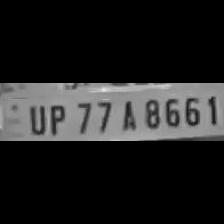1: (202, 92, 220, 126)
6: (181, 92, 201, 126), (162, 94, 180, 128)
7: (70, 98, 94, 134), (92, 98, 114, 134)
8: (140, 94, 160, 130)
A: (114, 96, 138, 132)
P: (45, 101, 69, 135)
U: (23, 101, 47, 135)
